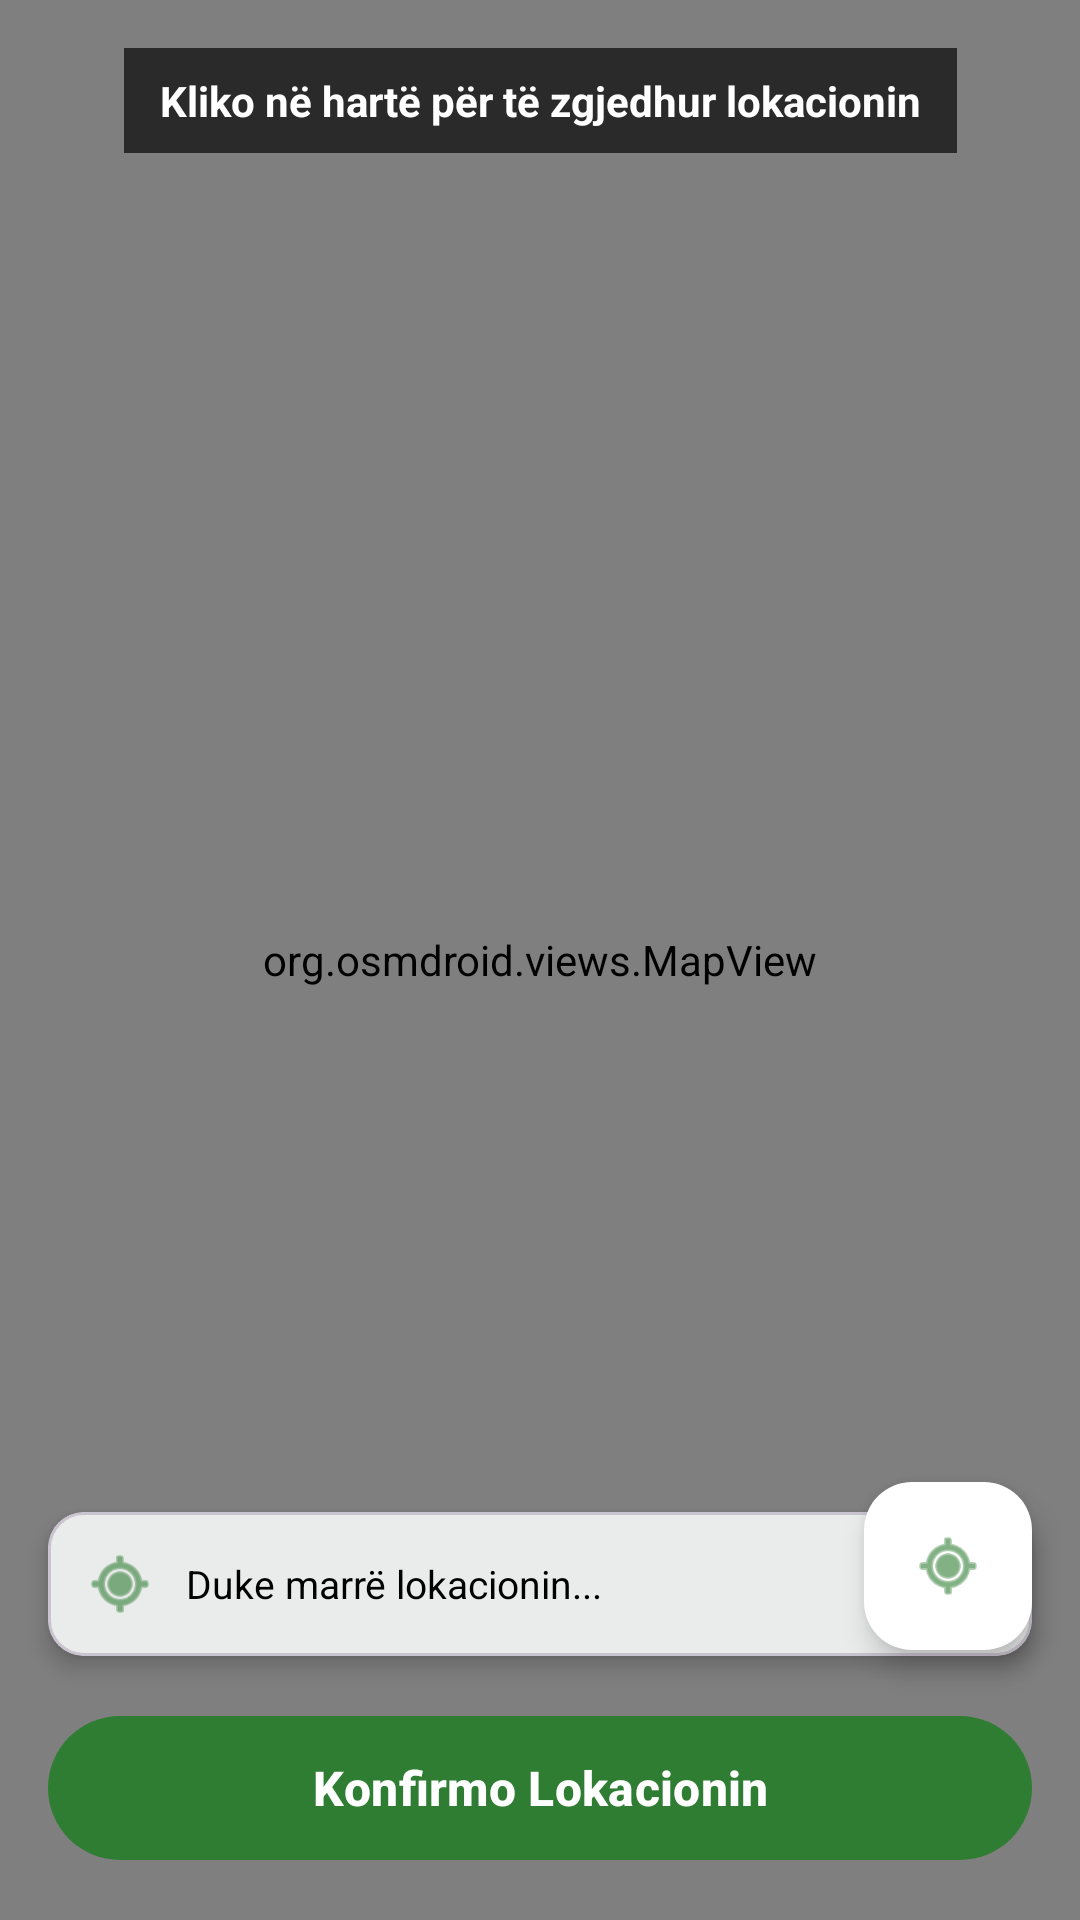

Icons on this 1080*1920 Android screen, each with the point to tap as point (x, y):
mylocation: point (948, 1566), point (120, 1584)
